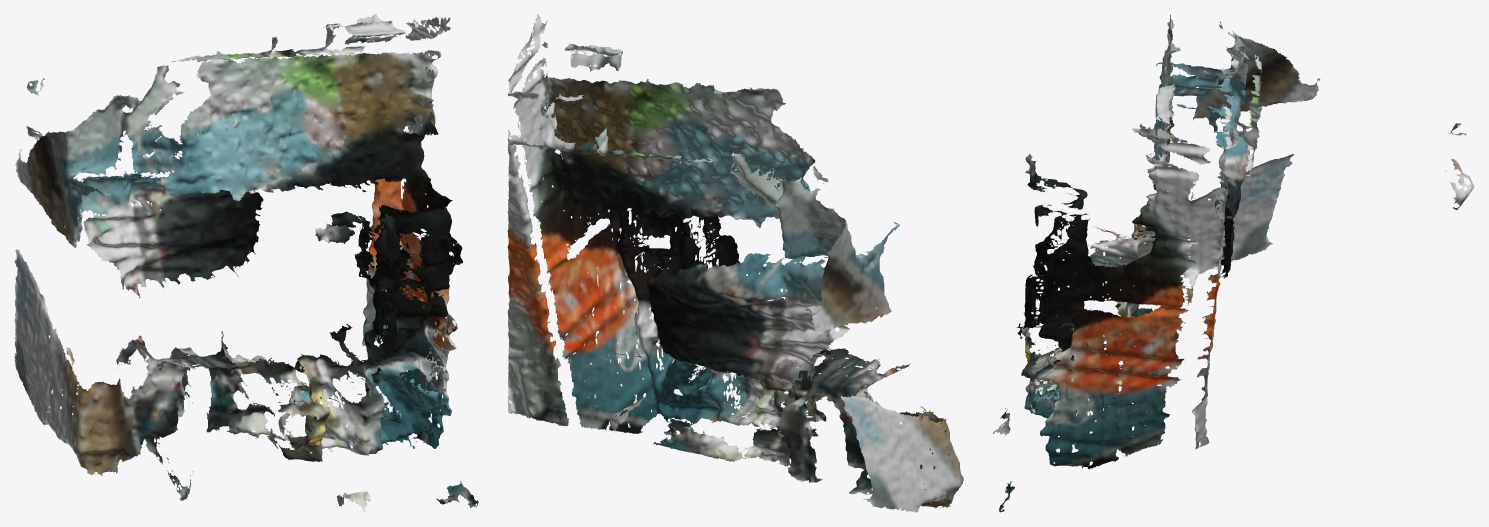
The model's file is color_model_f007_20251226_165926.obj.
3 views of the same model, side by side, from view 1: azimuth 30°, elevation 25°; view 2: azimuth 150°, elevation 25°; view 3: azimuth 270°, elevation 25° (orthographic). The views are drawn at different scales.
Bounding box in the file's own units: 2.33 × 2.49 × 2.64.
